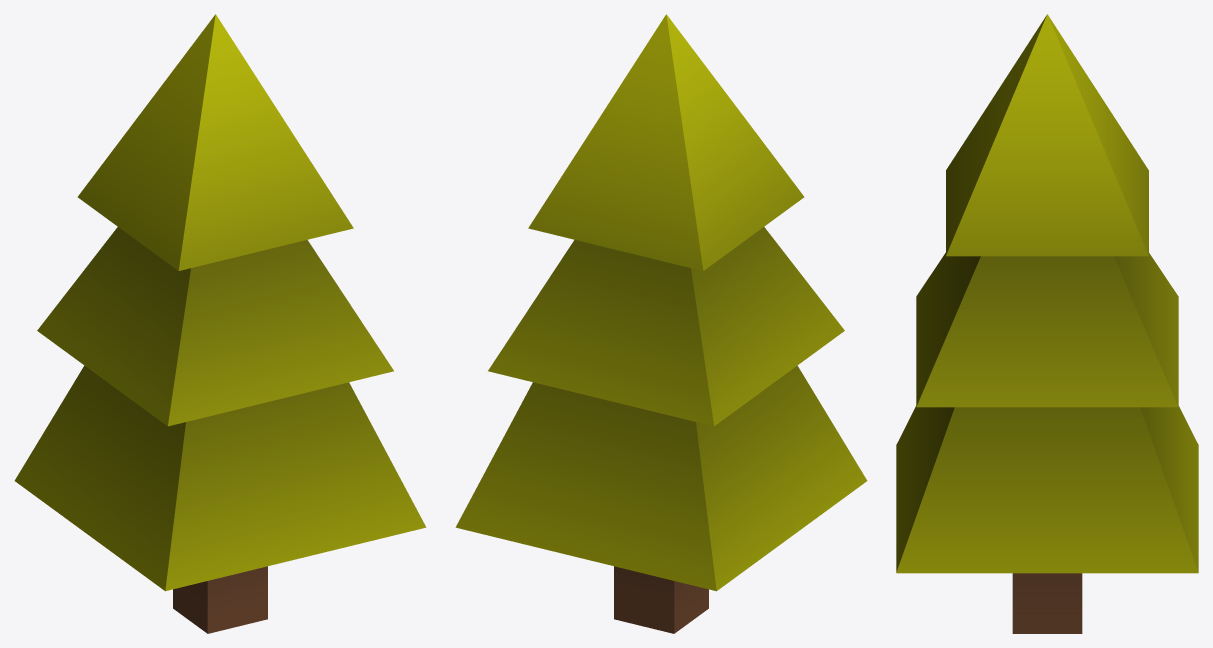
The model's file is Tree.fbx.
3 views of the same model, side by side, from view 1: azimuth 30°, elevation 25°; view 2: azimuth 150°, elevation 25°; view 3: azimuth 270°, elevation 25° (orthographic).
Parts seen in each view (by area): view 1: Tree; view 2: Tree; view 3: Tree.
Part boxes in pixels (x1,y1,x2,y2): Tree: (14, 14, 426, 633); Tree: (455, 14, 867, 633); Tree: (896, 14, 1198, 633).
Size of the model in its own units: 0.4 by 0.4 by 0.8796.
